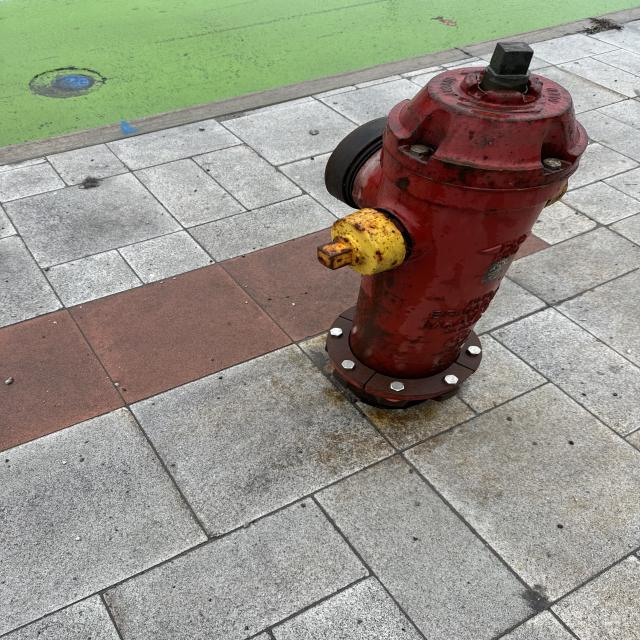Fire hydrant: (316, 42, 590, 411)
